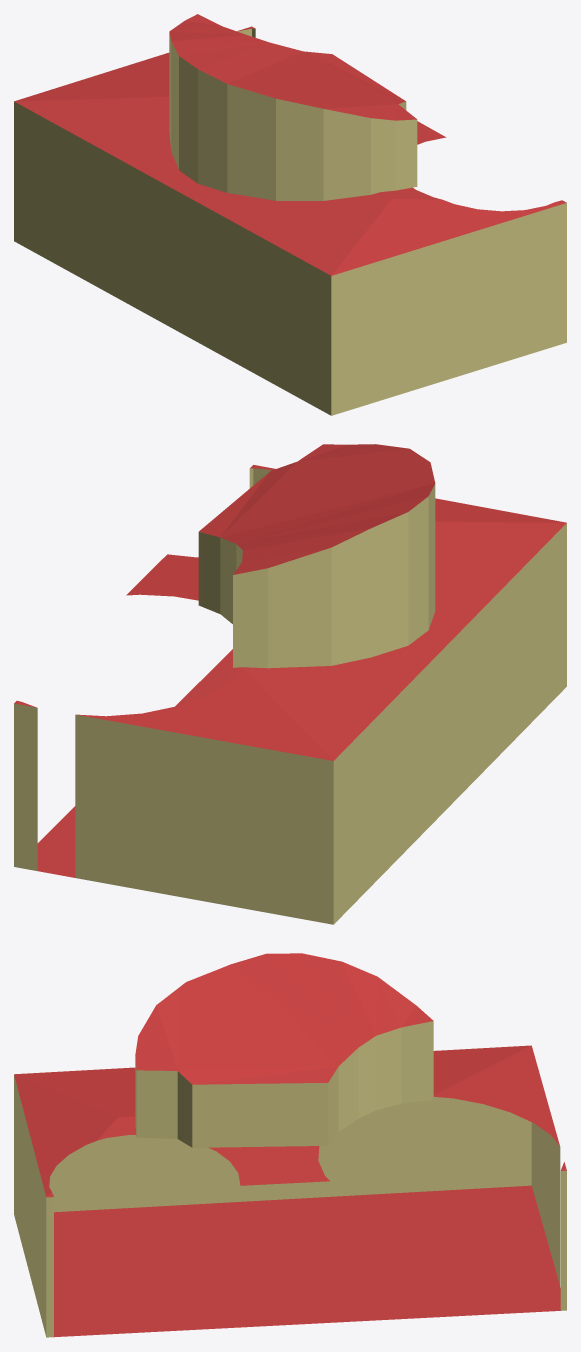
3 renders of one model, top to bottom at view 1: azimuth 30°, elevation 25°; view 2: azimuth 150°, elevation 25°; view 3: azimuth 270°, elevation 25°, orthographic. The views are drawn at different scales.
Bounding box in the file's own units: 14.99 × 23.04 × 11.82.
